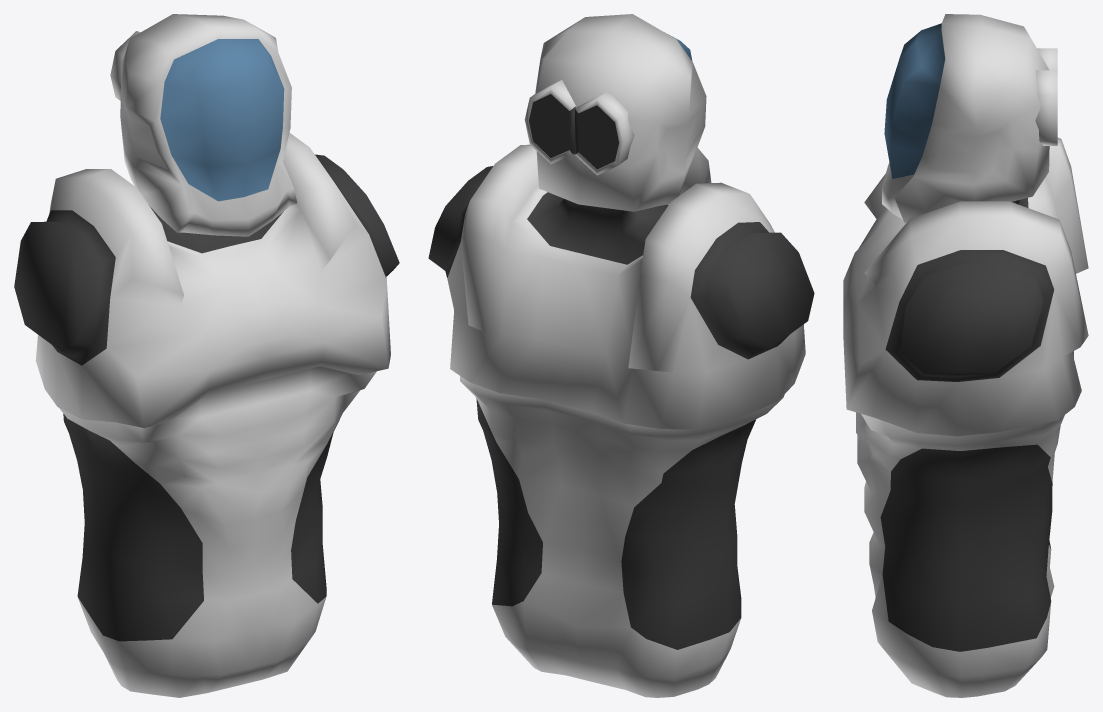
The model's file is Soldier_1.fbx.
3 renders of one model, left to right at view 1: azimuth 30°, elevation 25°; view 2: azimuth 150°, elevation 25°; view 3: azimuth 270°, elevation 25°, orthographic.
Parts seen in each view (by area): view 1: Skin_Soldier_1; view 2: Skin_Soldier_1, Skin_Soldier_1_Hand_Right, Skin_Soldier_1_Hand_Left; view 3: Skin_Soldier_1, Skin_Soldier_1_Hand_Left.
Part boxes in pixels (x1=…): Skin_Soldier_1: x1=14, y1=14, x2=399, y2=697; Skin_Soldier_1: x1=428, y1=14, x2=814, y2=697; Skin_Soldier_1_Hand_Right: x1=575, y1=91, x2=634, y2=175; Skin_Soldier_1_Hand_Left: x1=524, y1=80, x2=575, y2=163; Skin_Soldier_1: x1=843, y1=14, x2=1088, y2=697; Skin_Soldier_1_Hand_Left: x1=1035, y1=70, x2=1057, y2=145.
Bounding box in the file's own units: 0.4275 × 0.7892 × 0.2767.
